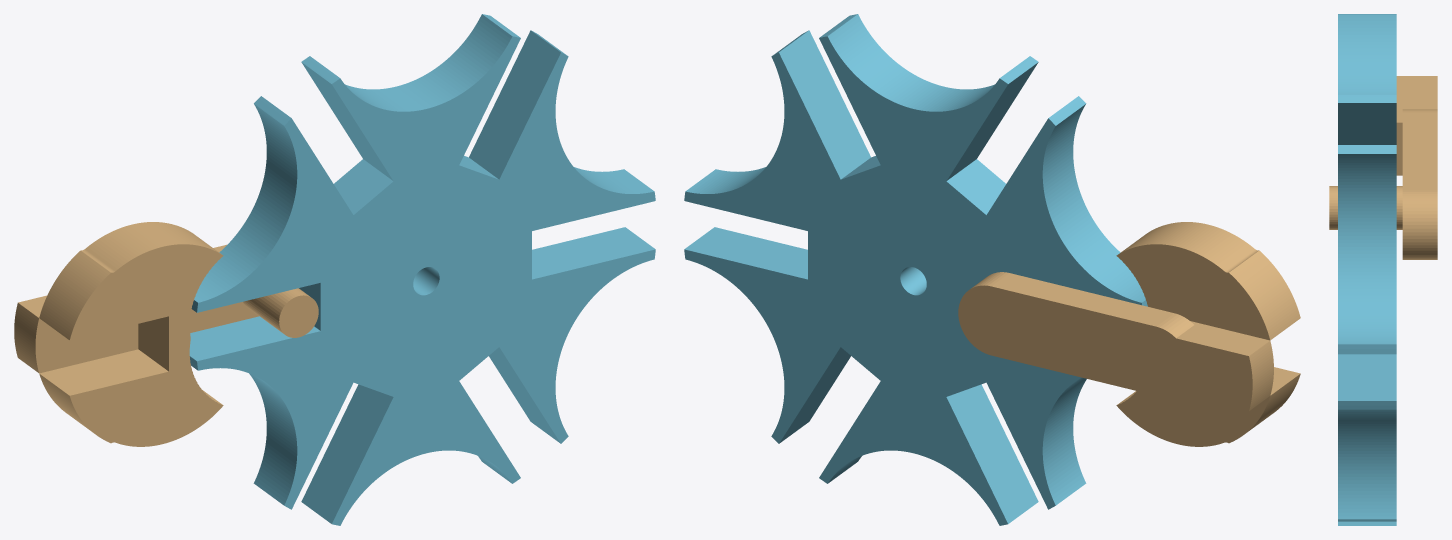
The model's file is geneva_pair_demo.glb.
3 renders of one model, left to right at view 1: azimuth 30°, elevation 25°; view 2: azimuth 150°, elevation 25°; view 3: azimuth 270°, elevation 25°, orthographic. The views are drawn at different scales.
Parts seen in each view (by area): view 1: slotted_wheel, pin_driver; view 2: slotted_wheel, pin_driver; view 3: slotted_wheel, pin_driver.
Part boxes in pixels (left/top/right/bottom): slotted_wheel: left=189, top=14, right=655, bottom=525; pin_driver: left=14, top=222, right=318, bottom=446; slotted_wheel: left=684, top=14, right=1147, bottom=525; pin_driver: left=958, top=222, right=1300, bottom=446; slotted_wheel: left=1338, top=14, right=1396, bottom=525; pin_driver: left=1329, top=76, right=1437, bottom=259.
Size of the model in its own units: 44.66 by 32.39 by 7.4.
